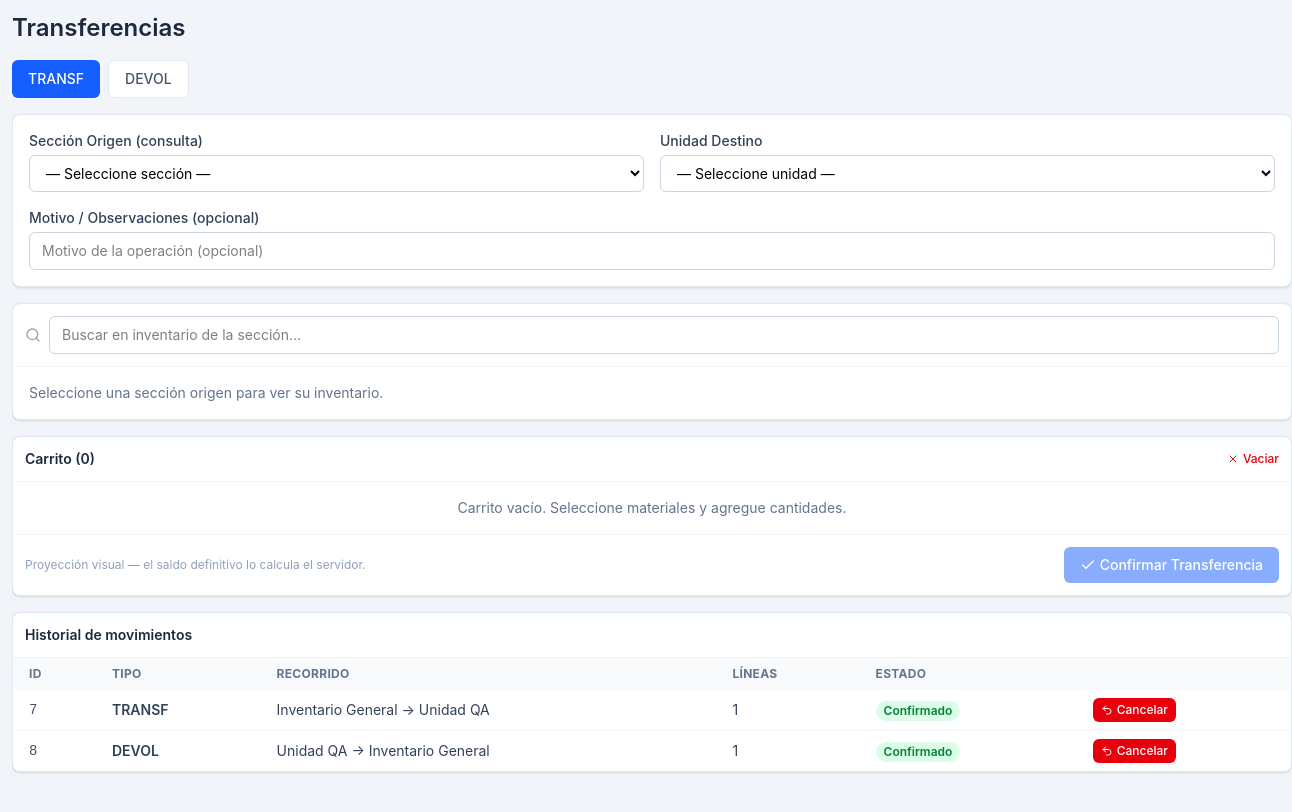
Pestañas y botones › RF-2/RF-3 REQ-NOM-002/003: el botón del carrito sigue a la pestaña activa
The width and height of the screenshot is (1292, 812).
Check: the button "Confirmar Transferencia" is shown, box [1064, 547, 1279, 583]
Click the button "DEVOL".
click(148, 79)  # box [108, 60, 189, 98]
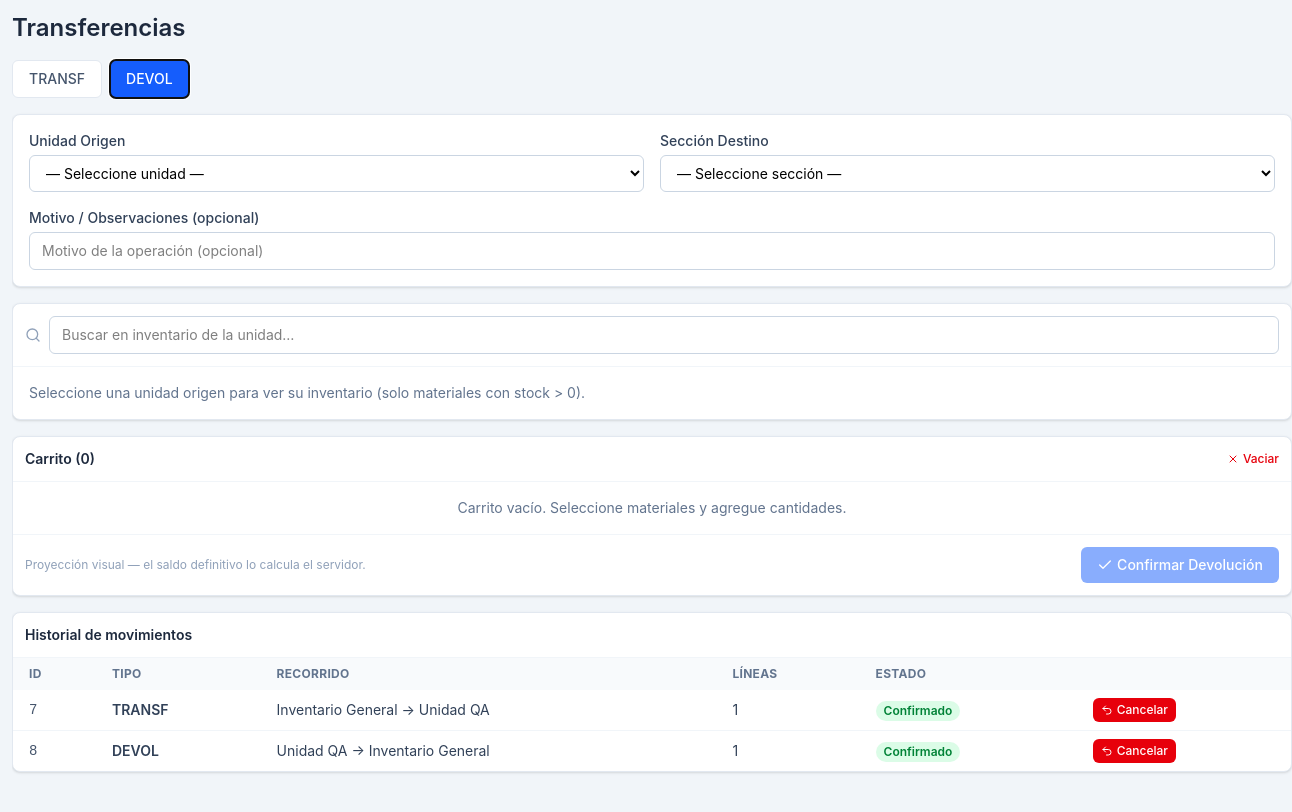
Check: the button "Confirmar Devolución" is shown, box [1081, 547, 1279, 583]
Check: the button "Confirmar Transferencia" is gone
